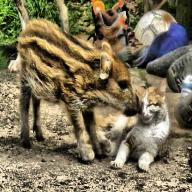boar: (10, 11, 132, 121)
